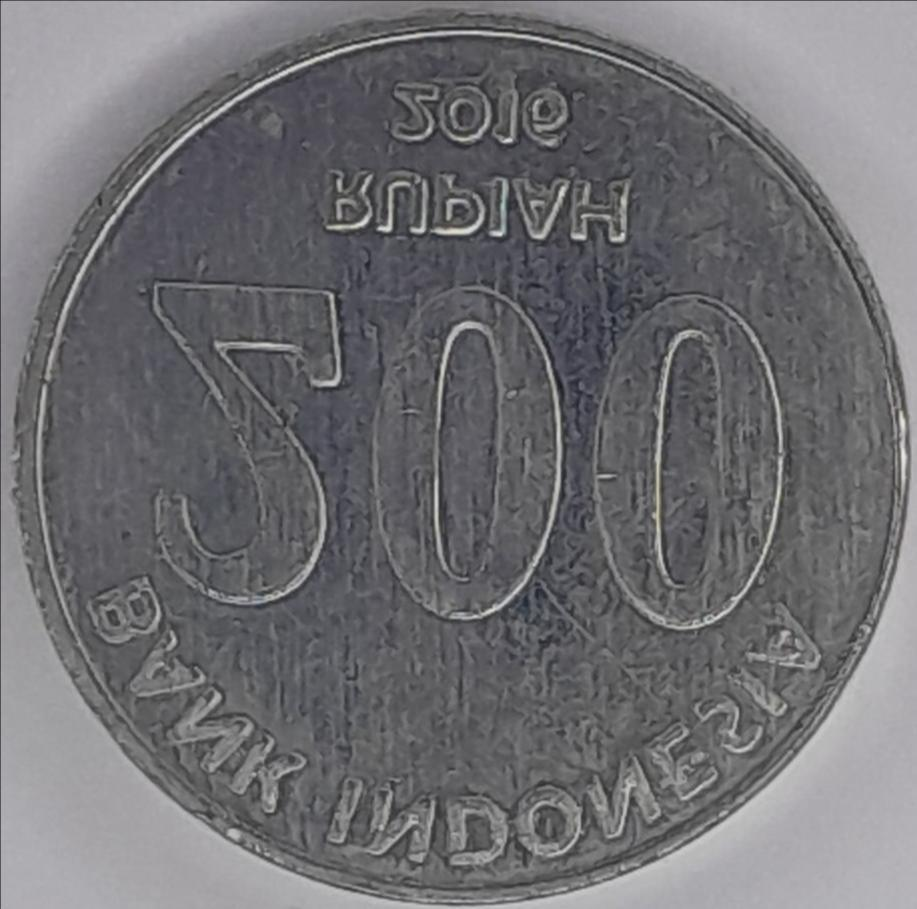coin_200_e2016: (0, 16, 917, 909)
